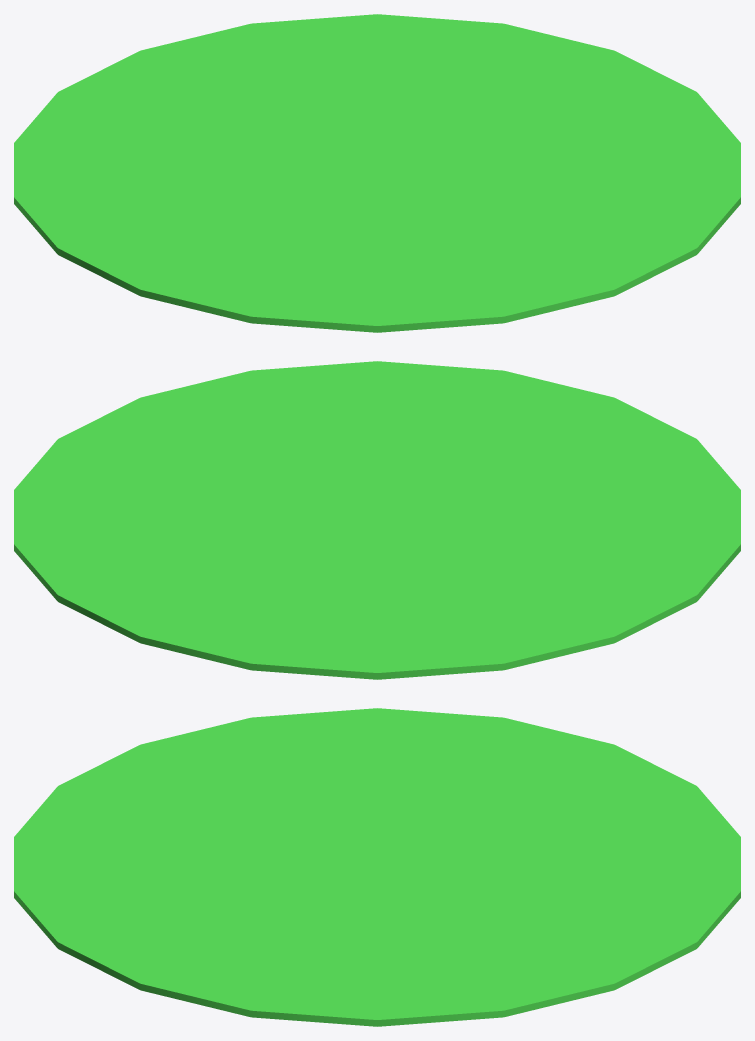
File: endPoint.dae
3 renders of one model, top to bottom at view 1: azimuth 30°, elevation 25°; view 2: azimuth 150°, elevation 25°; view 3: azimuth 270°, elevation 25°, orthographic.
Parts seen in each view (by area): view 1: Cylinder01; view 2: Cylinder01; view 3: Cylinder01.
Part boxes in pixels (left/top/right/bottom): Cylinder01: left=14, top=14, right=740, bottom=332; Cylinder01: left=14, top=361, right=740, bottom=679; Cylinder01: left=14, top=708, right=740, bottom=1026.
Bounding box in the file's own units: 78.74 × 77.54 × 0.7874.
